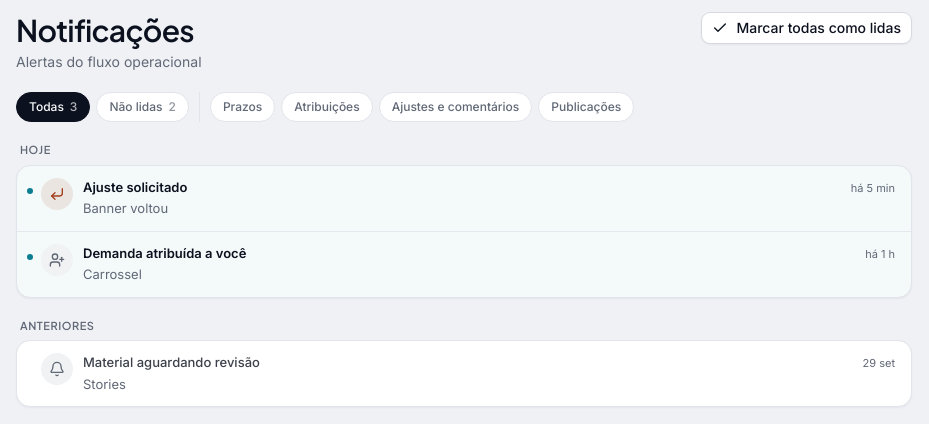
Scenario: NotificationsList › filtra por não lidas e por grupo
Click the button "Não lidas2": (143,107) [96,92,189,122]
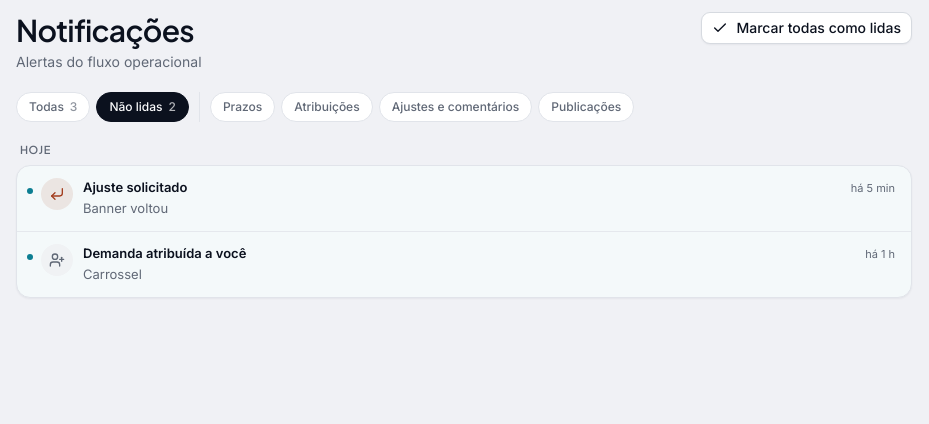
Now the button "Material aguardando revisão" is gone
Click the button "Ajustes e comentários": (455,107) [379,92,532,122]
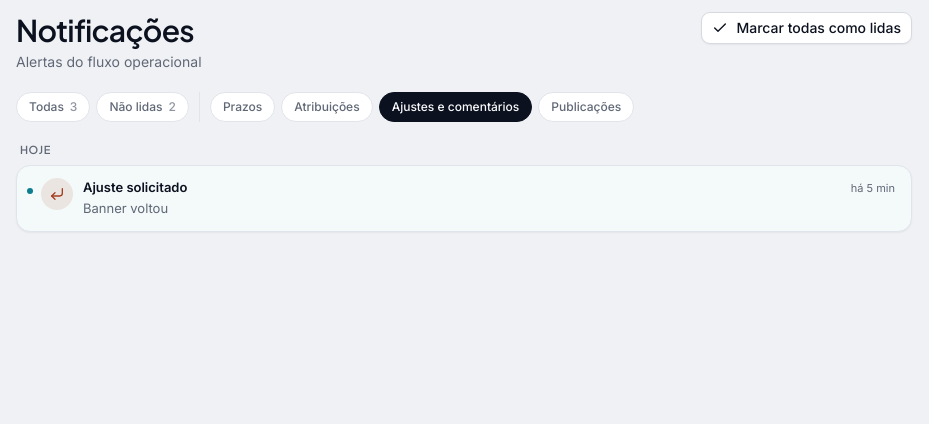
Expected: the text "Ajuste solicitado" is shown, [83,178,245,194]
Now the button "Demanda atribuída a você" is gone
